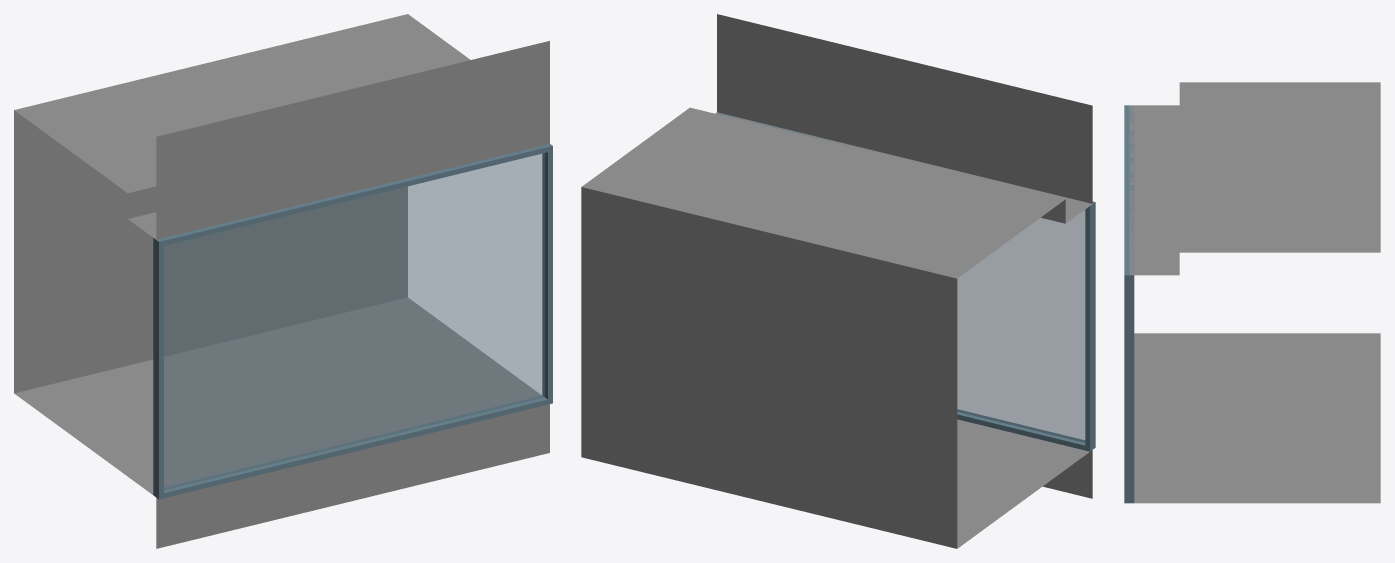
File: officeBuilding01_windowLarge.FBX
3 views of the same model, side by side, from view 1: azimuth 30°, elevation 25°; view 2: azimuth 150°, elevation 25°; view 3: azimuth 270°, elevation 25° (orthographic). The views are drawn at different scales.
Parts seen in each view (by area): view 1: officeBuilding01_windowLarge; view 2: officeBuilding01_windowLarge; view 3: officeBuilding01_windowLarge.
Part boxes in pixels (x1,y1,x2,y2): officeBuilding01_windowLarge: [14, 14, 552, 548]; officeBuilding01_windowLarge: [581, 14, 1095, 548]; officeBuilding01_windowLarge: [1124, 82, 1380, 503].
Bounding box in the file's own units: 400 × 400 × 255.
